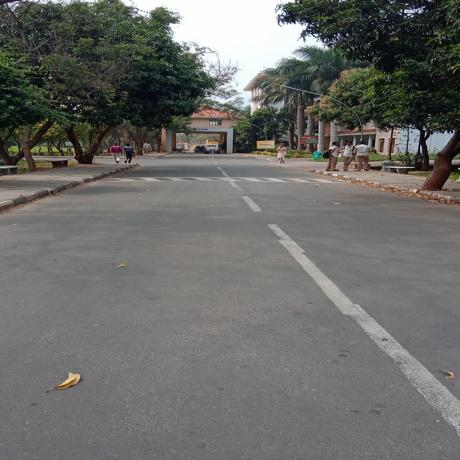Speed Bump: (84, 176, 350, 183)
